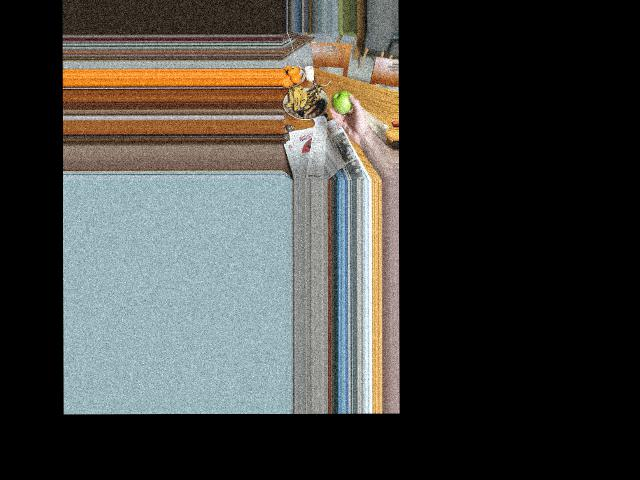apple: (330, 89, 357, 117)
